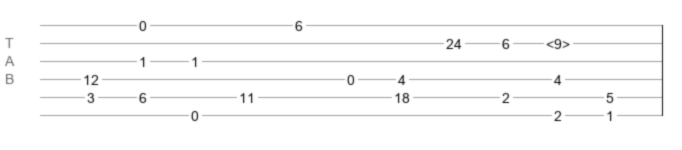0: (139, 18, 147, 28), (191, 108, 199, 118), (347, 72, 355, 82)
1: (139, 54, 147, 64), (191, 54, 199, 64), (606, 108, 614, 118)
11: (239, 90, 255, 100)
12: (83, 72, 99, 82)
18: (394, 90, 410, 100)
2: (502, 90, 510, 100), (554, 108, 562, 118)
24: (446, 36, 462, 46)
3: (87, 90, 95, 100)
4: (398, 72, 406, 82), (554, 72, 562, 82)
5: (606, 90, 614, 100)
6: (139, 90, 147, 100), (295, 18, 303, 28), (502, 36, 510, 46)
harmonic: (546, 36, 570, 46)
